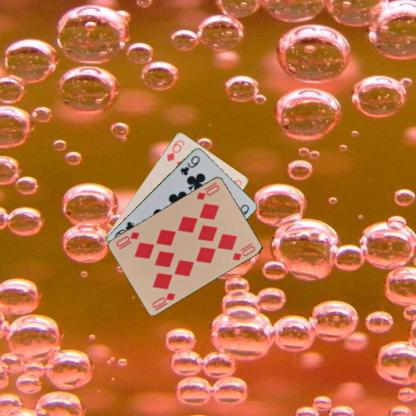10d: (194, 179, 221, 201), (150, 290, 176, 309)
6d: (164, 137, 186, 163)
9c: (177, 153, 201, 177)
